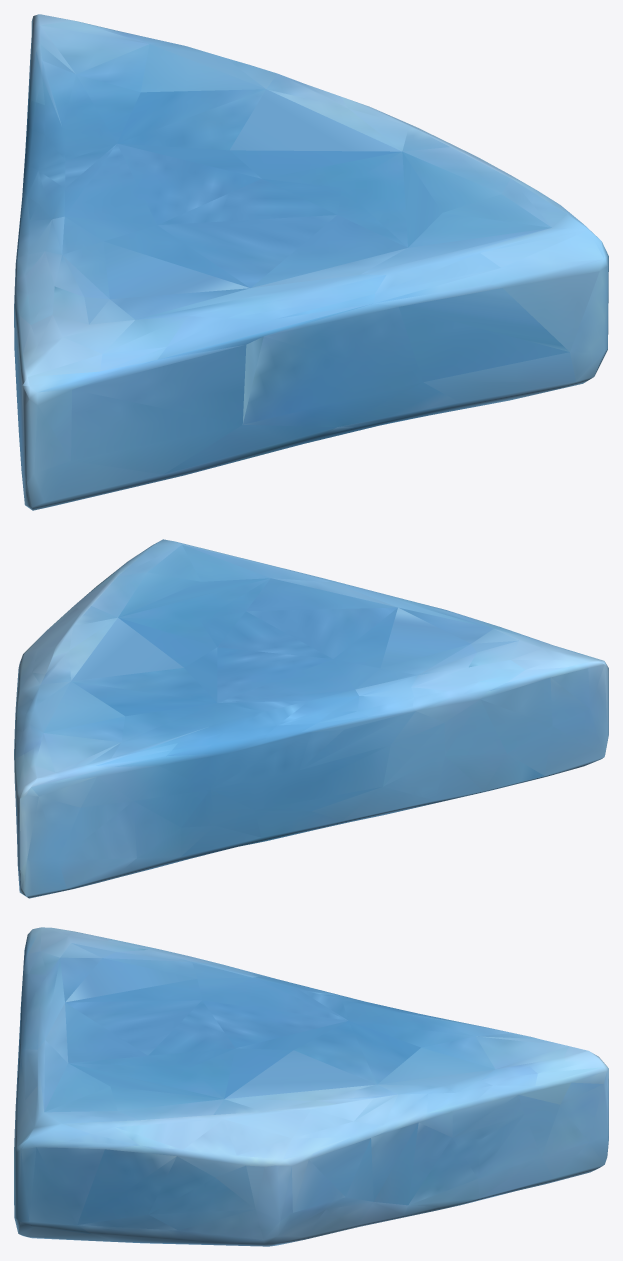
Rendered from placa_hielo_rota_3_700.glb.
The picture shows the model from 3 angles, top to bottom: view 1: azimuth 30°, elevation 25°; view 2: azimuth 150°, elevation 25°; view 3: azimuth 270°, elevation 25°; orthographic projection. The views are drawn at different scales.
Parts seen in each view (by area): view 1: placa_hielo_rota_3_malla; view 2: placa_hielo_rota_3_malla; view 3: placa_hielo_rota_3_malla.
Part boxes in pixels (left/top/right/bottom): placa_hielo_rota_3_malla: left=14, top=14, right=608, bottom=510; placa_hielo_rota_3_malla: left=14, top=539, right=608, bottom=898; placa_hielo_rota_3_malla: left=14, top=927, right=608, bottom=1246.
Size of the model in its own units: 0.11 by 0.0277 by 0.1233.
Materials: 1 (1 with a texture image).
